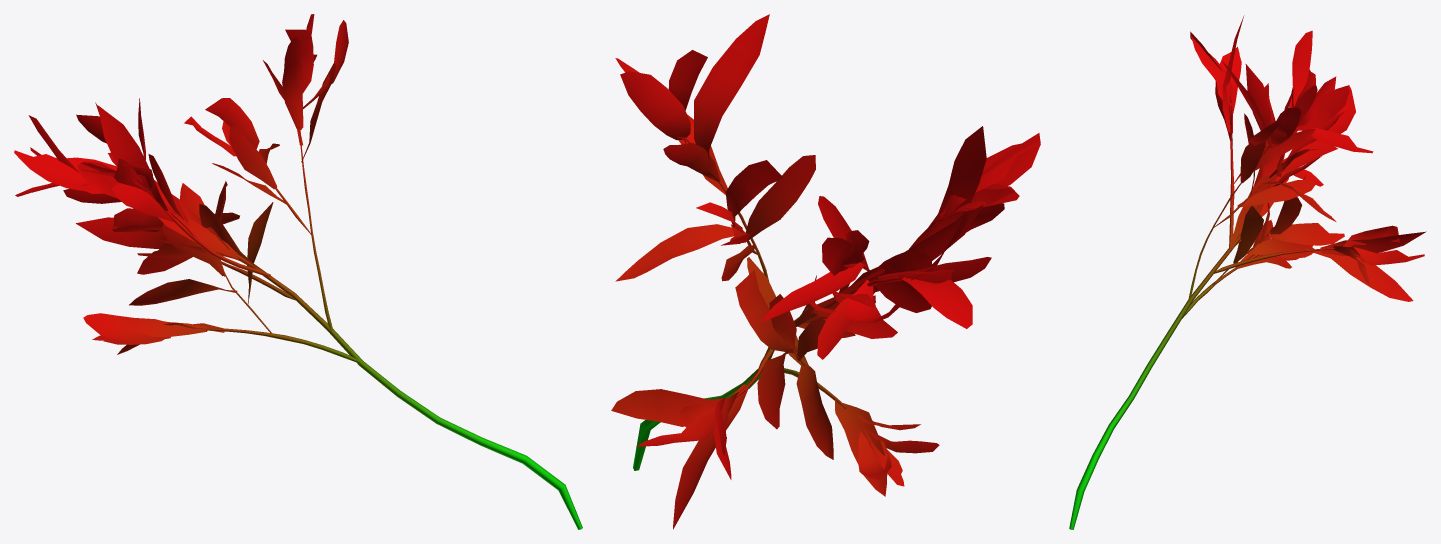
The model's file is Downy Willow_LOD1_Var13_wknlfiuqx.fbx.
3 renders of one model, left to right at view 1: azimuth 30°, elevation 25°; view 2: azimuth 150°, elevation 25°; view 3: azimuth 270°, elevation 25°, orthographic. The views are drawn at different scales.
Visible parts, largest first — view 1: _mi33_Var13_LOD1; view 2: _mi33_Var13_LOD1; view 3: _mi33_Var13_LOD1.
Boxes of the visible parts, left/top/right/bottom form: _mi33_Var13_LOD1: left=14, top=14, right=582, bottom=529; _mi33_Var13_LOD1: left=611, top=14, right=1040, bottom=529; _mi33_Var13_LOD1: left=1069, top=15, right=1426, bottom=529.
Bounding box in the file's own units: 26.61 × 28.26 × 23.43.
